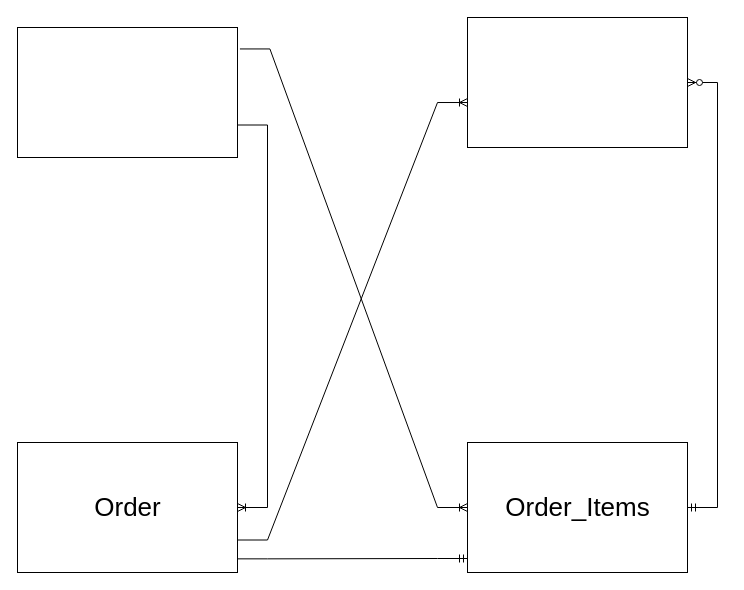
Some shapes in this 744 by 590 pixel diagram are drawn without their labels. Here are the shapes that lost their labels. From the top down, the box of each, then its label:
(16, 26, 238, 158): Customer
(466, 16, 688, 148): Products
